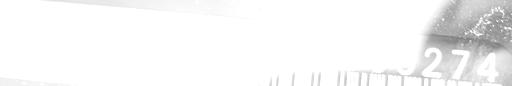letter: (46, 13, 86, 55), (8, 8, 48, 46), (192, 24, 224, 64), (110, 16, 140, 56), (249, 28, 281, 65), (224, 28, 254, 64), (280, 33, 310, 69), (310, 36, 340, 72), (137, 21, 167, 56), (418, 43, 446, 80), (166, 22, 192, 60), (390, 41, 418, 76), (339, 38, 365, 74), (364, 40, 390, 76), (474, 49, 502, 82), (85, 18, 109, 52), (449, 45, 471, 82)
